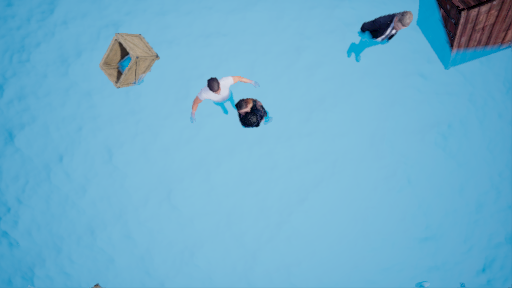person: (181, 72, 268, 134), (349, 7, 409, 66)
